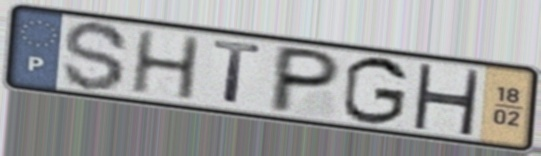G: (339, 54, 411, 128)
H: (408, 60, 483, 138), (127, 28, 203, 103)
P: (264, 43, 346, 116)
S: (60, 19, 133, 94)
T: (211, 37, 266, 108)
